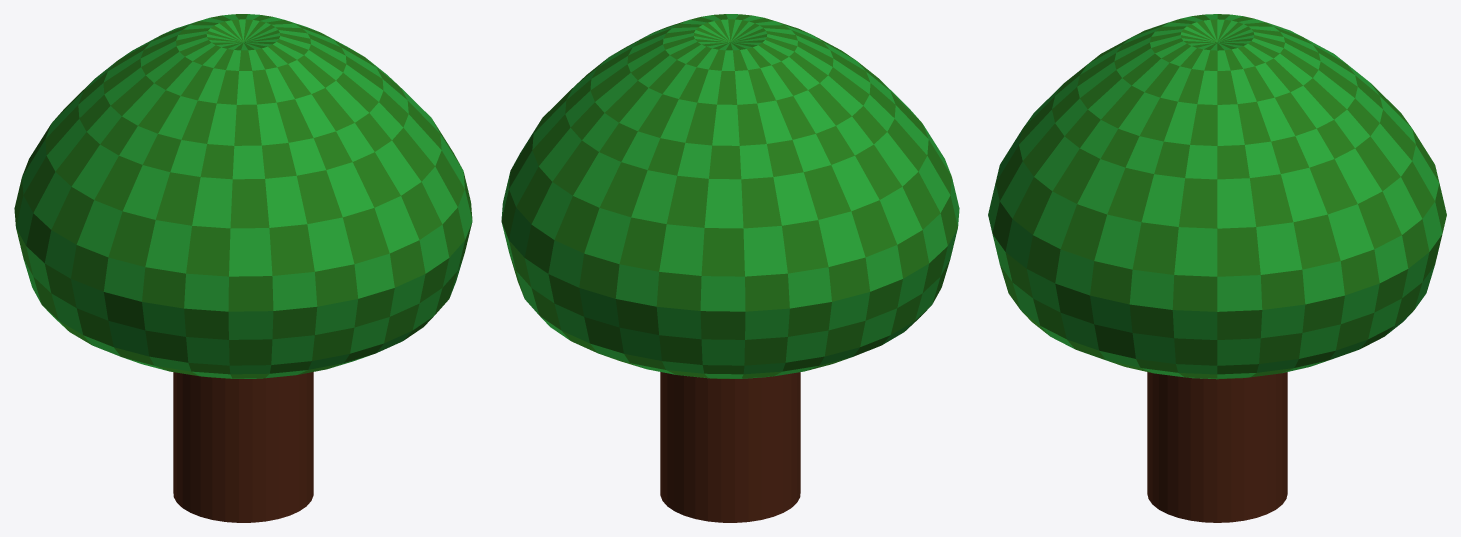
File: arvorezinha.fbx
The picture shows the model from 3 angles, left to right: view 1: azimuth 30°, elevation 25°; view 2: azimuth 150°, elevation 25°; view 3: azimuth 270°, elevation 25°; orthographic projection.
Parts seen in each view (by area): view 1: Cylinder; view 2: Cylinder; view 3: Cylinder.
Part boxes in pixels (x1,y1,x2,y2): Cylinder: (14,14,472,522); Cylinder: (501,14,959,522); Cylinder: (988,14,1446,522).
Size of the model in its own units: 203 by 223 by 203.
